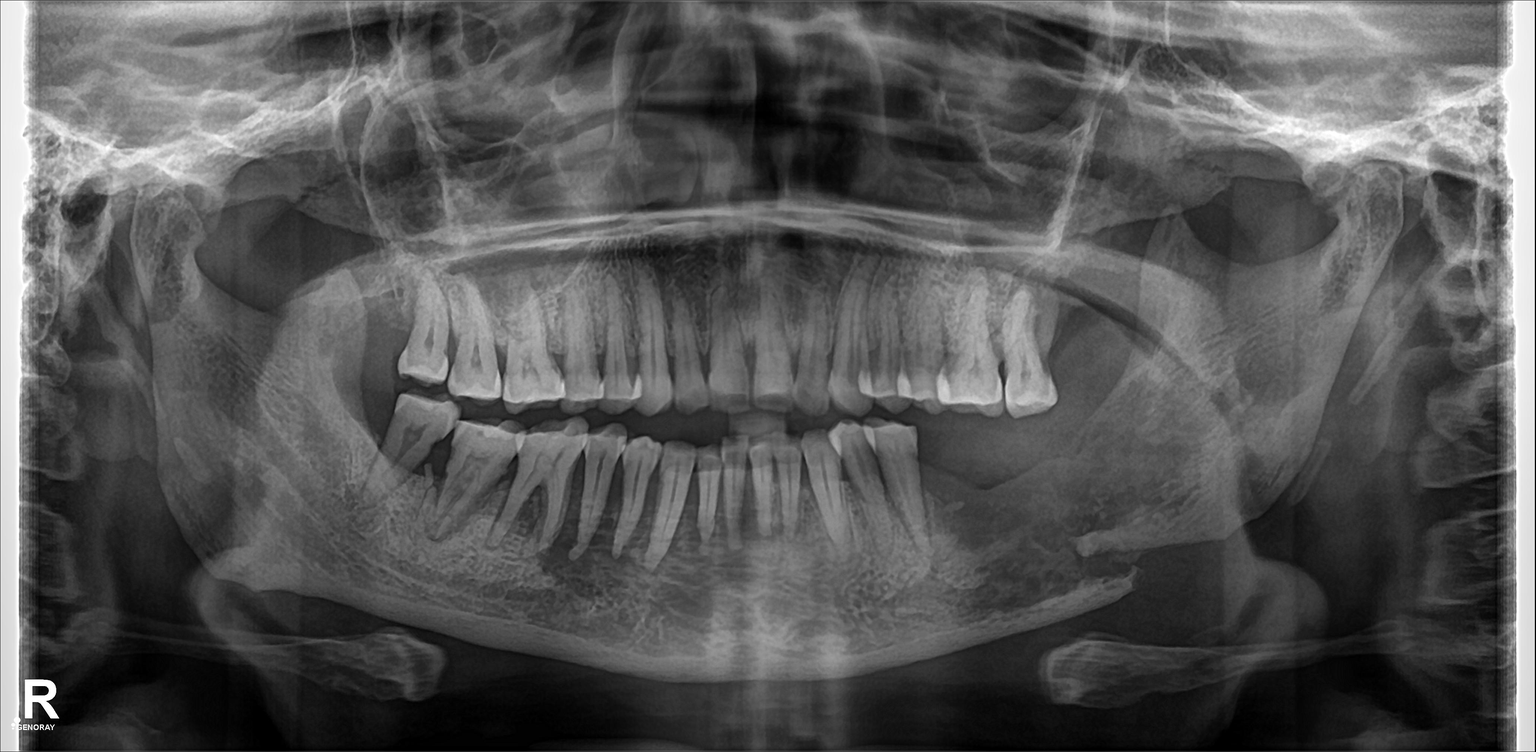Missing Tooth: (354, 270, 404, 356), (1048, 285, 1088, 384), (1088, 275, 1131, 367), (1065, 426, 1102, 514), (929, 439, 971, 508), (1017, 441, 1053, 512), (976, 443, 1003, 529), (352, 370, 384, 441)
